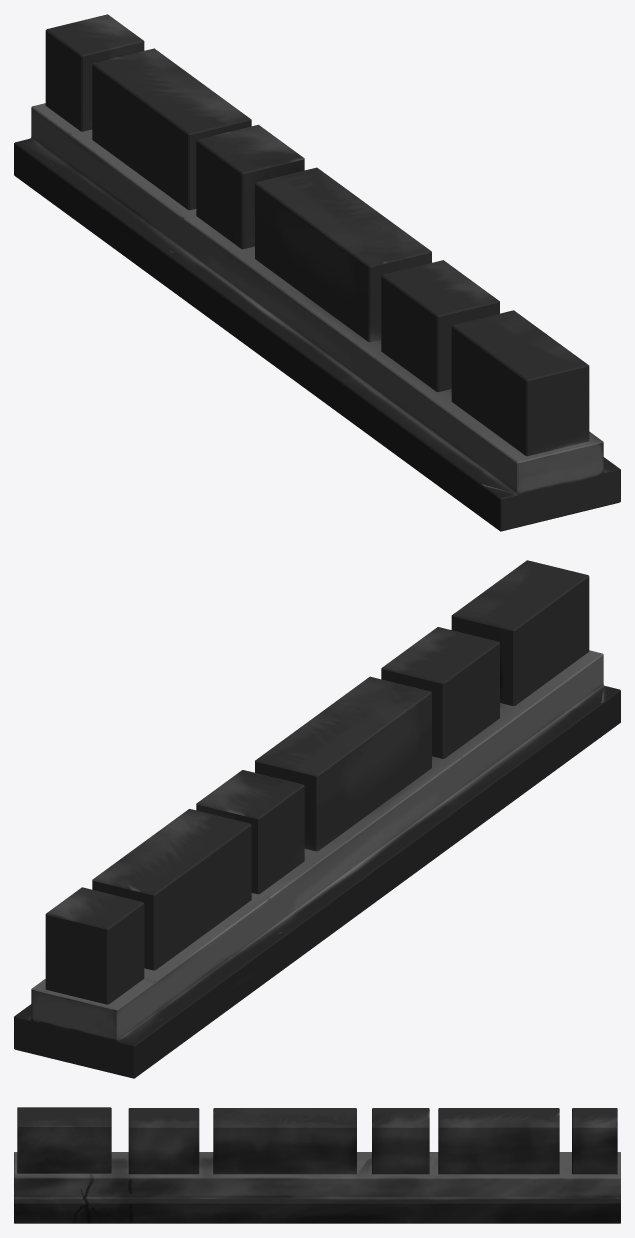
Rendered from StoneBuilds-Wall.fbx.
3 renders of one model, top to bottom at view 1: azimuth 30°, elevation 25°; view 2: azimuth 150°, elevation 25°; view 3: azimuth 270°, elevation 25°, orthographic. The views are drawn at different scales.
Parts seen in each view (by area): view 1: StoneWall; view 2: StoneWall; view 3: StoneWall.
Part boxes in pixels (x1,y1,x2,y2): StoneWall: (14,14,620,531); StoneWall: (14,560,620,1078); StoneWall: (14,1107,620,1223).
Size of the model in its own units: 109 by 123 by 760.
Materials: 1 (1 with a texture image).
